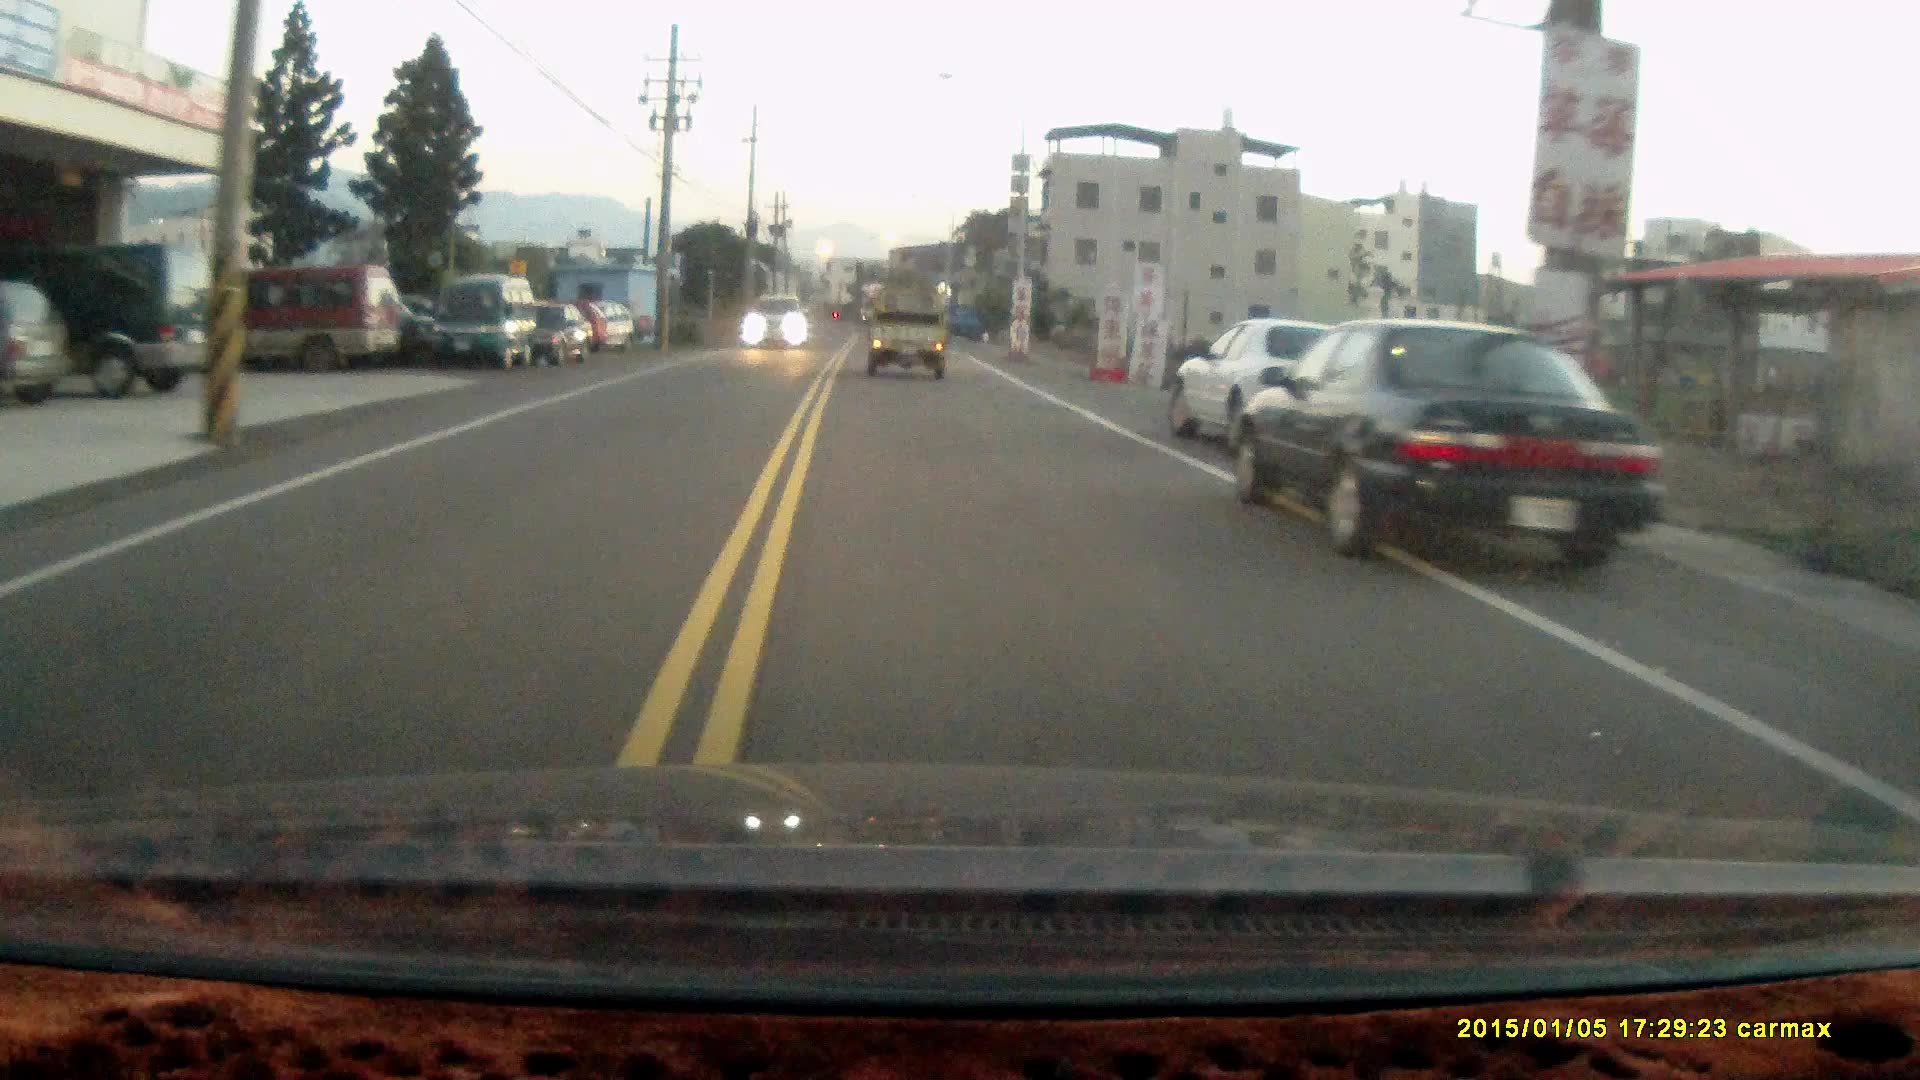vehicle: (1230, 316, 1655, 568), (0, 237, 229, 401), (210, 262, 406, 376), (1175, 318, 1329, 456), (429, 274, 541, 371), (1, 276, 70, 406), (866, 282, 947, 382), (501, 301, 596, 369), (740, 293, 814, 347)
